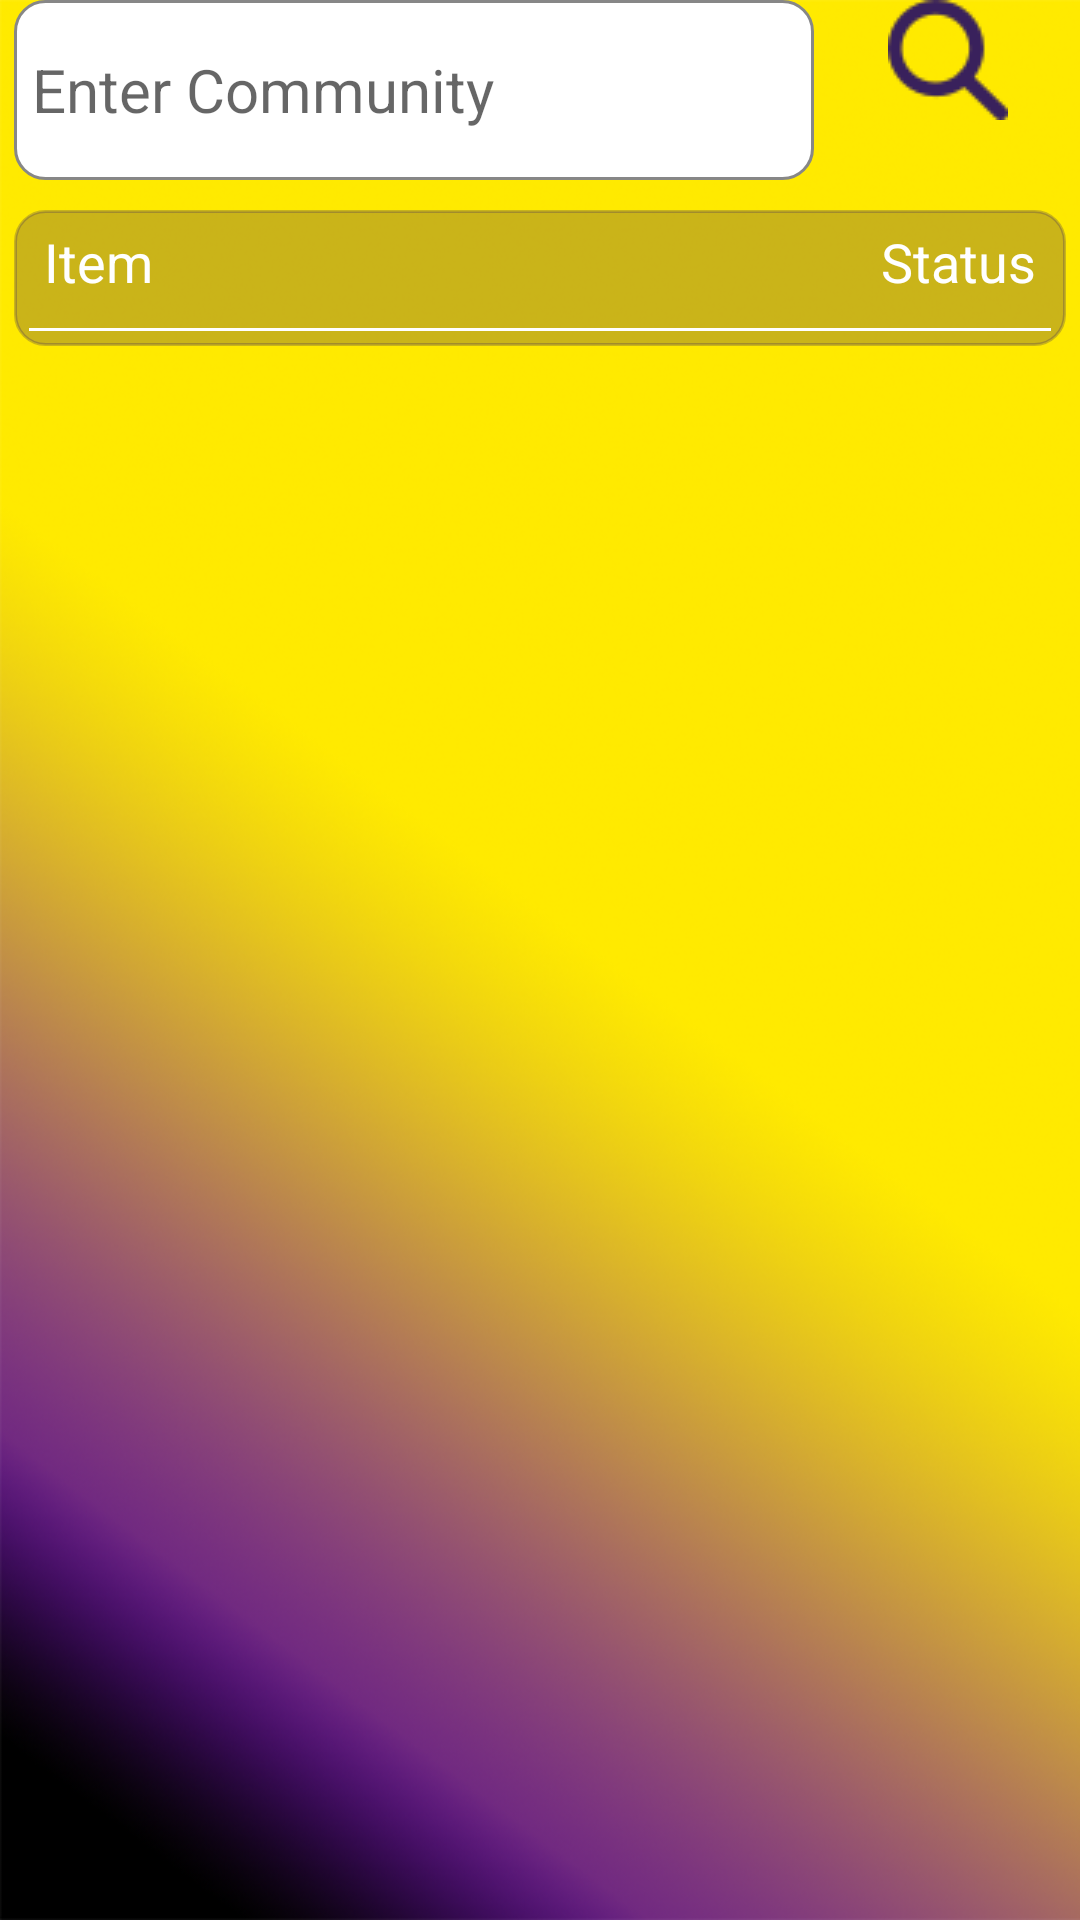

Named icons in this screenshot (1080px x 1920px) and their centers, [x,y]:
search: [948,60]
